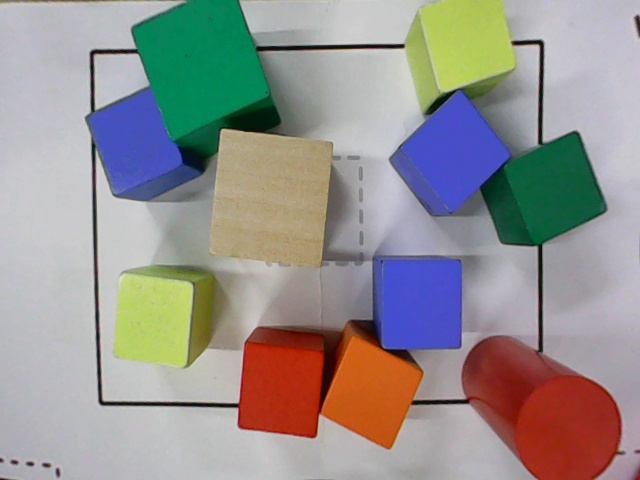upside of big cube: (130, 0, 270, 142), (208, 128, 333, 267)
upside of cylinder: (515, 376, 622, 479)
upside of small cube: (400, 90, 510, 214), (502, 131, 609, 247), (320, 335, 423, 449), (85, 85, 183, 197), (416, 0, 517, 95), (238, 342, 324, 438), (112, 273, 195, 369), (382, 259, 462, 348)
